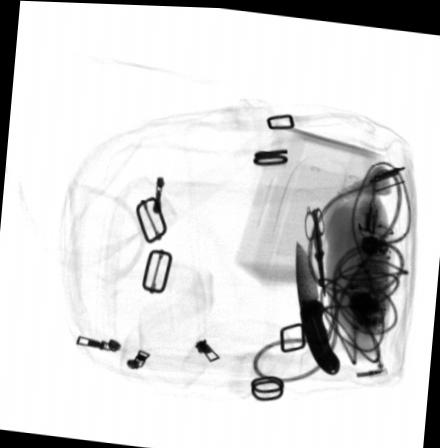Knife: (293, 237, 339, 374)
Scissors: (300, 202, 325, 293)
